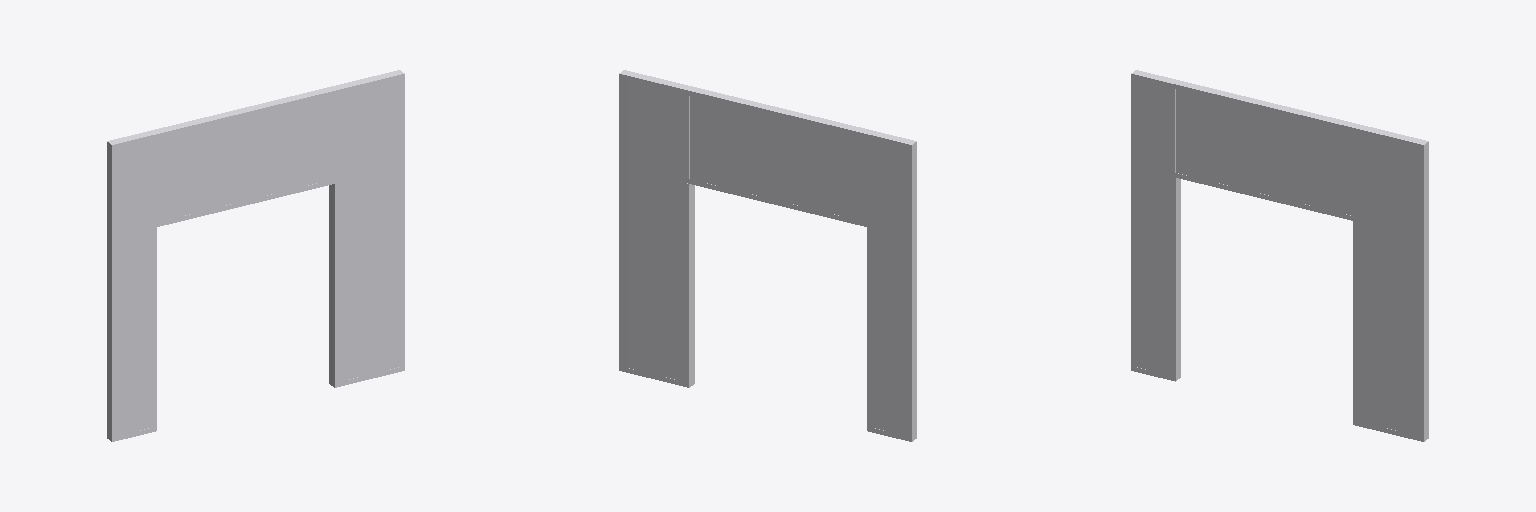
File: painel.obj
The picture shows the model from 3 angles: view 1: azimuth 30°, elevation 25°; view 2: azimuth 150°, elevation 25°; view 3: azimuth 330°, elevation 25°; orthographic projection.
Visible parts, largest first — view 1: Mesh6 Walls Model, Mesh4 Group4 Walls Model, Mesh1 Group1 Walls Model, Mesh3 Group3 Walls Model; view 2: Mesh6 Walls Model, Mesh7 Model, Mesh8 Model, Mesh4 Group4 Walls Model, Mesh1 Group1 Walls Model, Mesh3 Group3 Walls Model; view 3: Mesh6 Walls Model, Mesh1 Group1 Walls Model, Mesh4 Group4 Walls Model, Mesh3 Group3 Walls Model.
Part boxes in pixels (x1,y1,x2,y2): Mesh6 Walls Model: (107,70,404,441); Mesh4 Group4 Walls Model: (329,183,338,387); Mesh1 Group1 Walls Model: (152,227,156,427); Mesh3 Group3 Walls Model: (152,178,338,227); Mesh6 Walls Model: (619,70,916,441); Mesh7 Model: (619,74,627,372); Mesh8 Model: (903,143,911,441); Mesh4 Group4 Walls Model: (685,183,694,387); Mesh1 Group1 Walls Model: (867,227,871,427); Mesh3 Group3 Walls Model: (689,179,866,226); Mesh6 Walls Model: (1131,70,1428,441); Mesh1 Group1 Walls Model: (1171,177,1180,380); Mesh4 Group4 Walls Model: (1353,221,1357,420); Mesh3 Group3 Walls Model: (1171,172,1357,221).
Size of the model in its own units: 130 by 126 by 4.1.